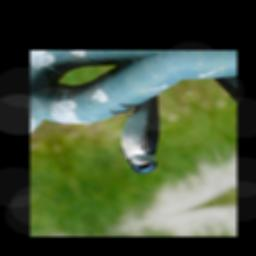Swallow: (99, 92, 189, 179)
